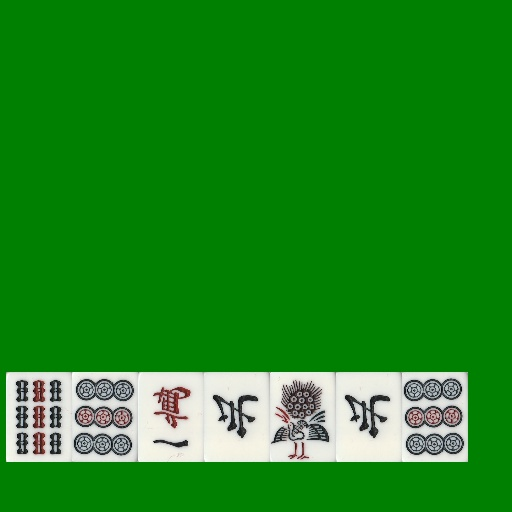1m: (138, 372, 204, 462)
1s: (270, 372, 336, 462)
9p: (72, 372, 138, 462), (402, 372, 468, 462)
9s: (6, 372, 72, 462)
north: (204, 372, 270, 462), (336, 372, 402, 462)
